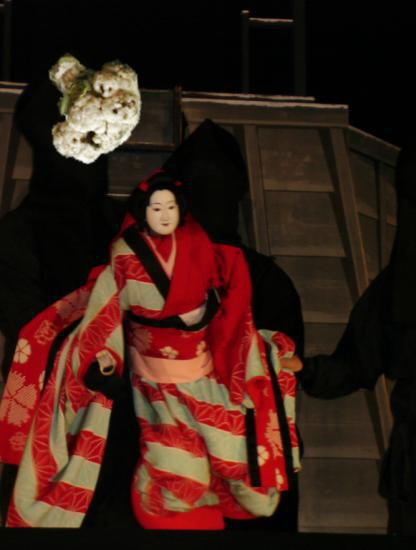Cauliflower: (30, 47, 146, 163)
